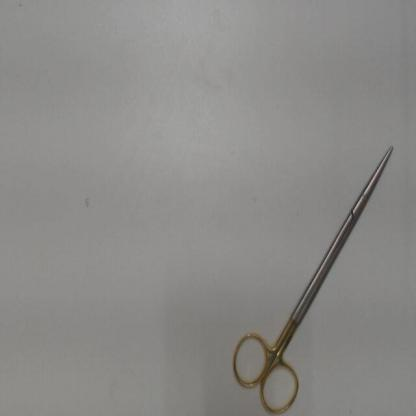7 Metzenbaum Scissors: (226, 140, 397, 414)
